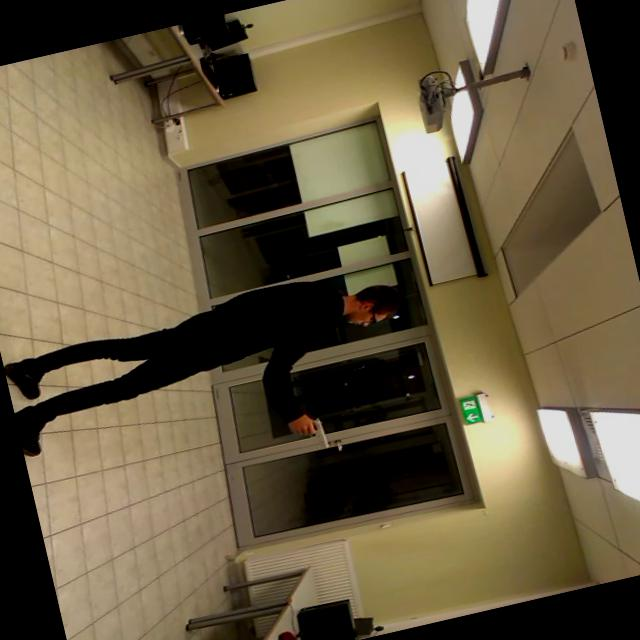handgun: (272, 404, 343, 464)
